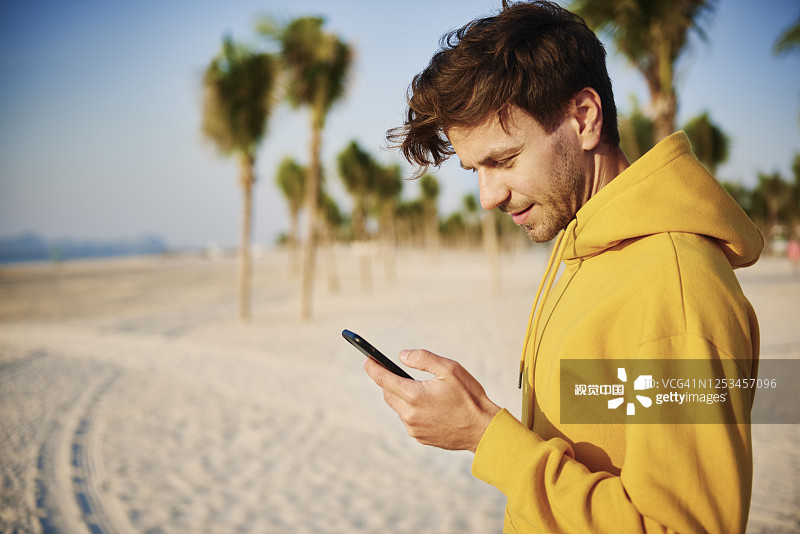reading: (318, 306, 503, 470)
